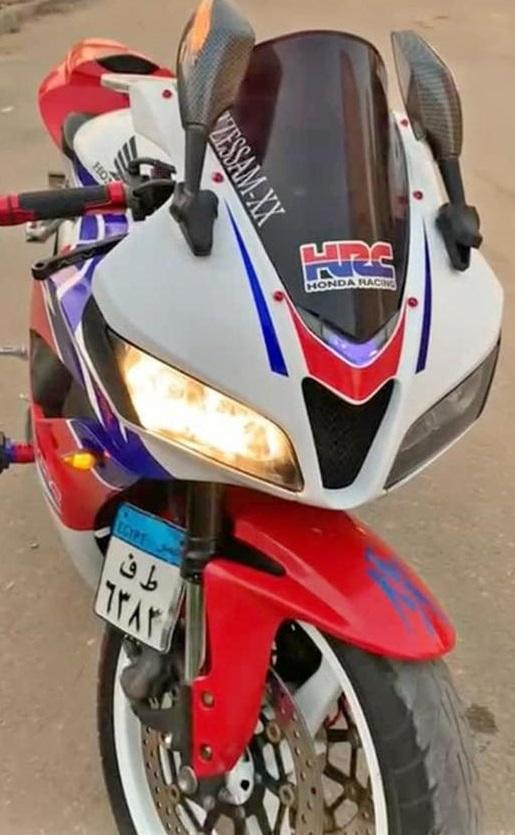License Plate: (92, 500, 194, 655)
